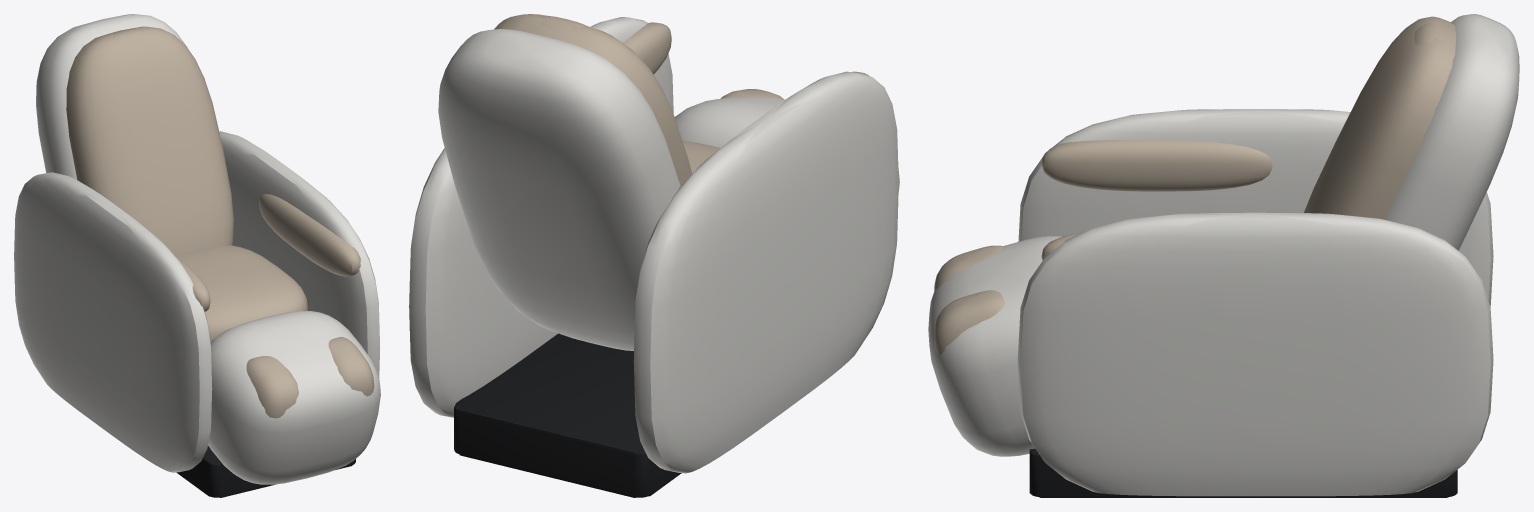
The picture shows the model from 3 angles, left to right: view 1: azimuth 30°, elevation 25°; view 2: azimuth 150°, elevation 25°; view 3: azimuth 270°, elevation 25°; orthographic projection. The views are drawn at different scales.
Visible parts, largest first — view 1: MX91WR; view 2: MX91WR; view 3: MX91WR.
Part boxes in pixels (box(x1,y1,x2,y2)): MX91WR: box(14, 14, 380, 497); MX91WR: box(409, 14, 899, 497); MX91WR: box(928, 14, 1519, 497).
Bounding box in the file's own units: 0.8 × 1.26 × 1.6.
